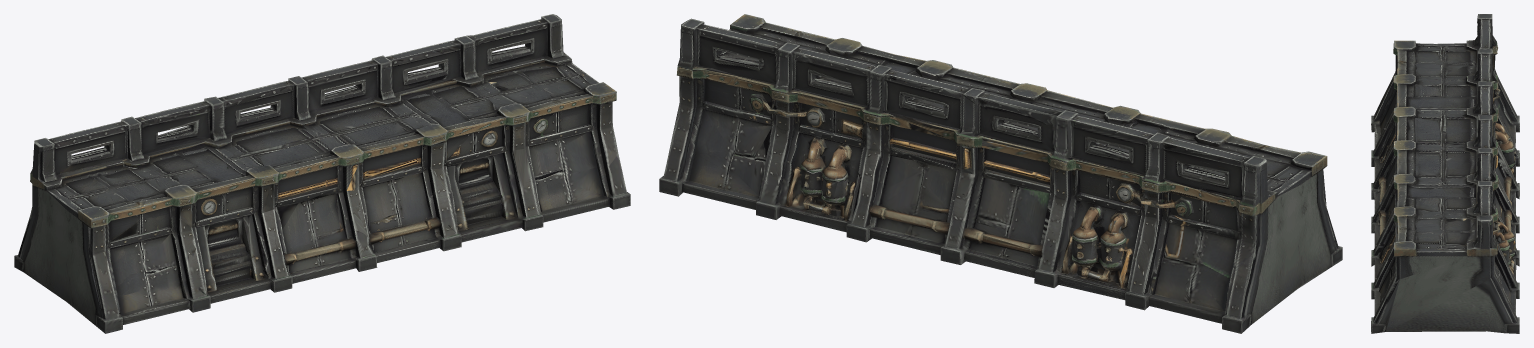
3 views of the same model, side by side, from view 1: azimuth 30°, elevation 25°; view 2: azimuth 150°, elevation 25°; view 3: azimuth 270°, elevation 25° (orthographic). The views are drawn at different scales.
Parts seen in each view (by area): view 1: reinforced_wall; view 2: reinforced_wall; view 3: reinforced_wall.
Boxes of the visible parts, x1,y1,x2,y2 form: reinforced_wall: [14, 14, 630, 333]; reinforced_wall: [659, 14, 1342, 333]; reinforced_wall: [1371, 14, 1519, 333].
Size of the model in its own units: 1.9 by 0.4777 by 0.5724.
1 material, 1 textured.
